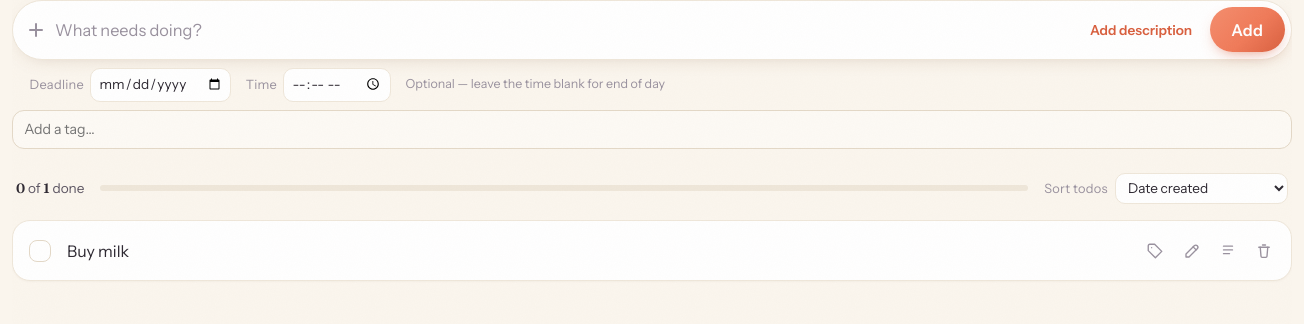
Test case: TodoApp delete › keeps the todo and shows an error when deleting fails
Click the button named "Delete \"Buy milk\"" at (1264,251), box [1247,234,1281,268]
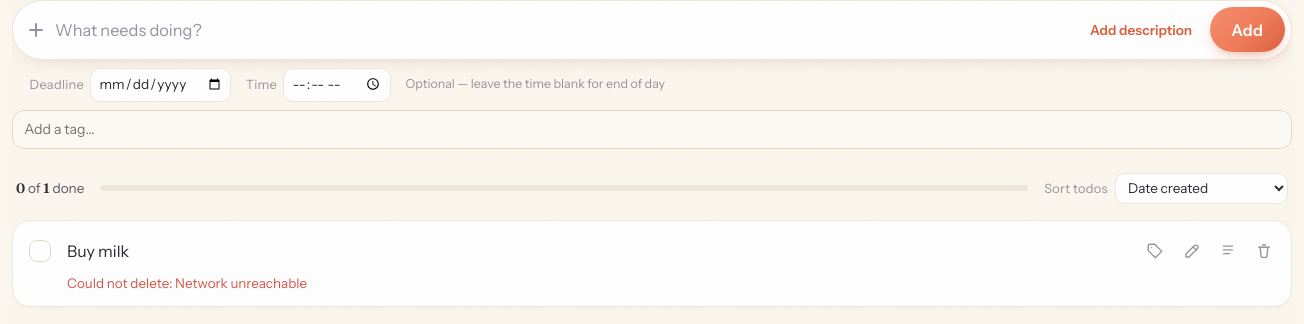
expect the text "Buy milk" is shown: met, box [67,239,129,263]
expect the message reads "Could not delete: Network unreachable": met, box [67,275,307,291]
